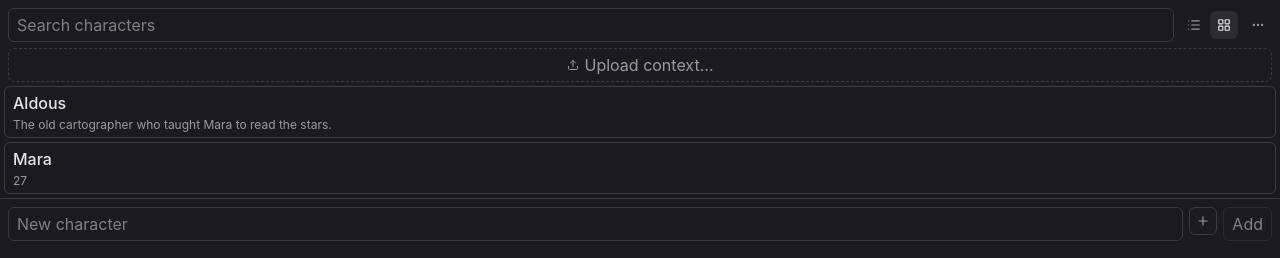
EntityTab (F-9.2) › a refused rename toasts the cause; Escape cancels without a write
The image size is (1280, 258).
Double-click the button "Mara 27".
double_click(32, 159)  # box 4,142 -> 1276,194
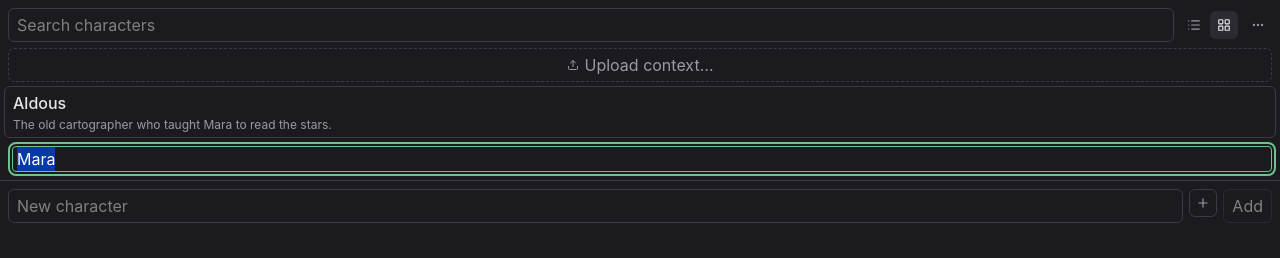
Type keys "Aldous{Enter}"
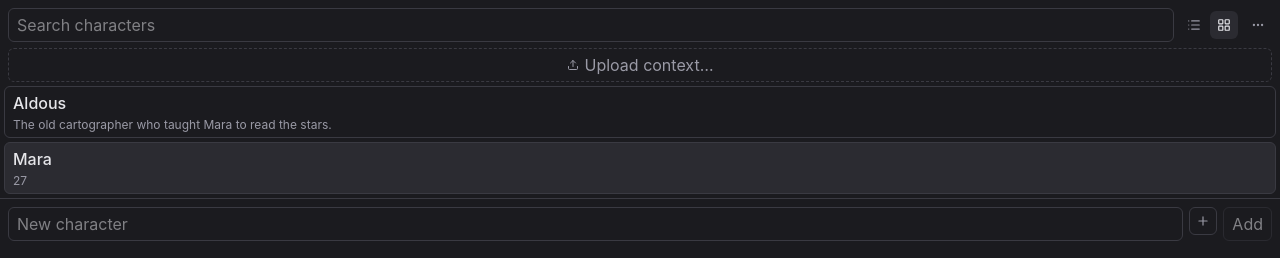
Double-click the button "Mara 27".
double_click(32, 159)  # box 4,142 -> 1276,194
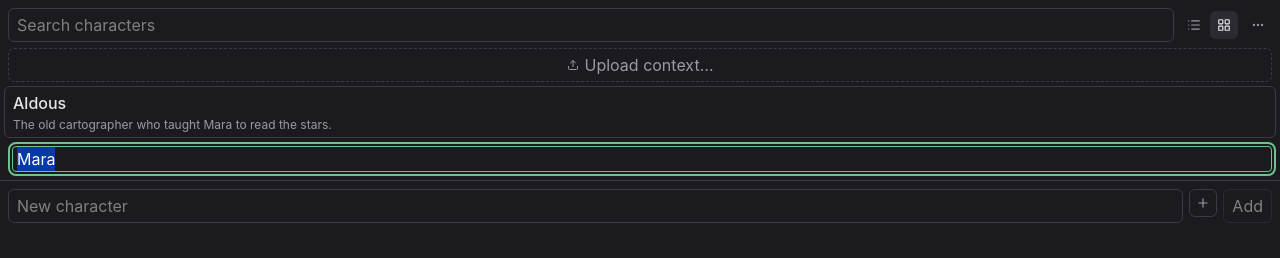
Type keys "Other{Escape}"
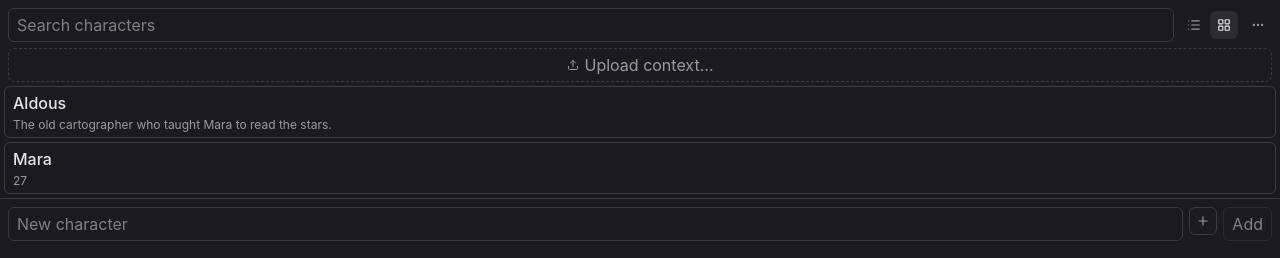
Result: the field labelled "Rename" is gone
